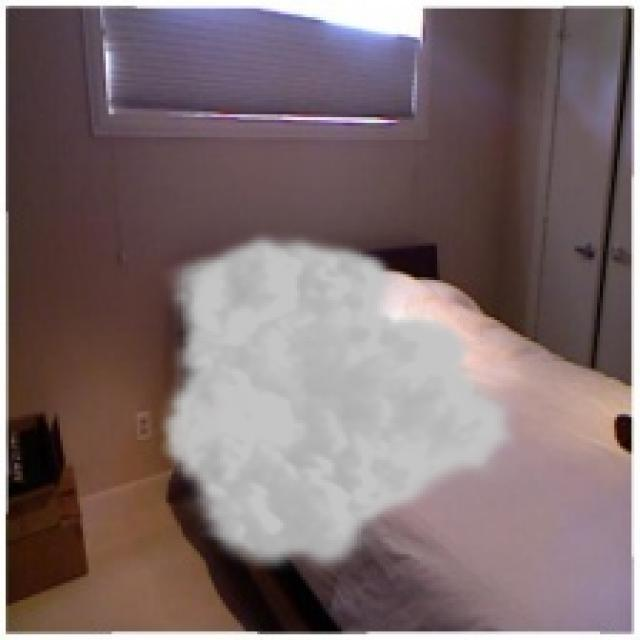Smoke: (157, 228, 523, 580)
